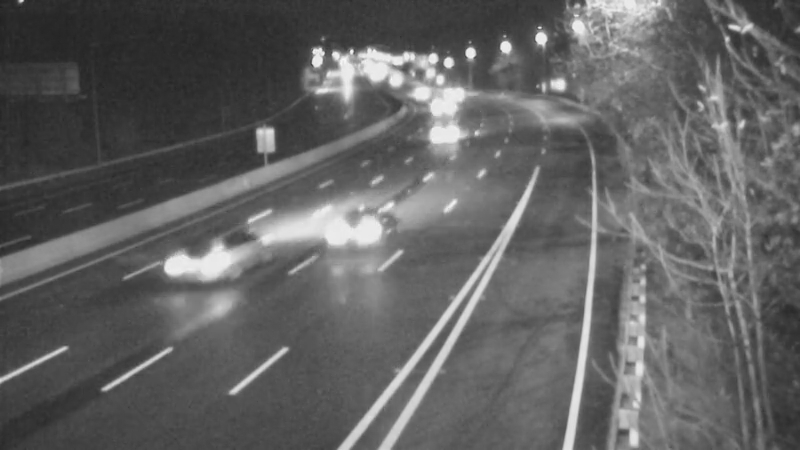vehicle: (314, 179, 394, 259), (152, 226, 232, 306), (370, 54, 420, 104), (396, 69, 446, 119), (429, 66, 479, 116), (412, 82, 462, 132), (418, 100, 468, 150)
